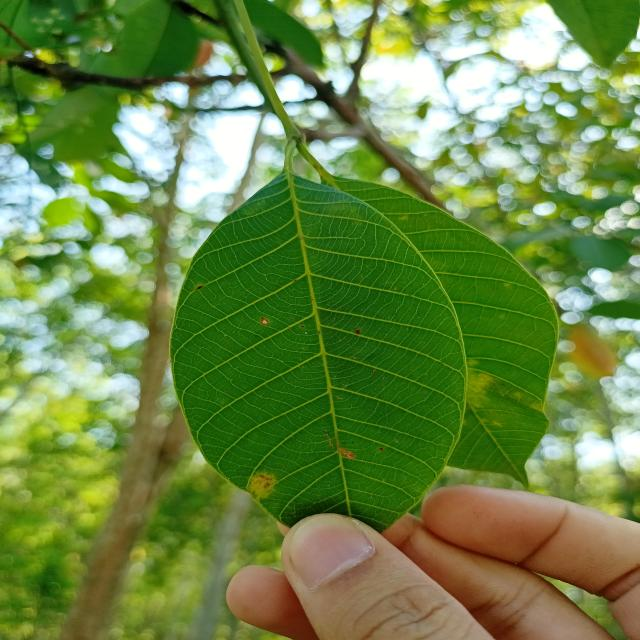Colletotrichum: (262, 319, 268, 325), (355, 330, 360, 334), (380, 448, 383, 450), (302, 326, 304, 327)
